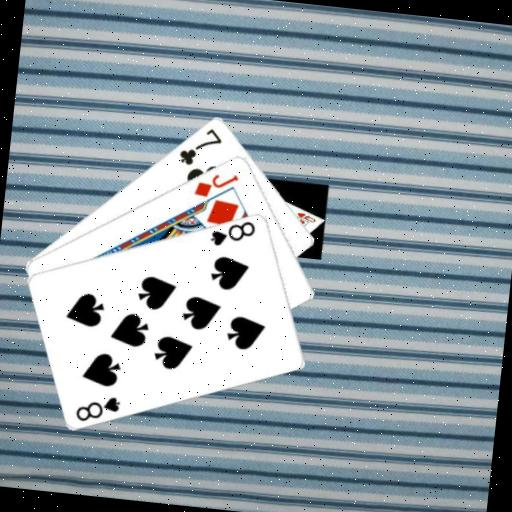7C: (175, 121, 225, 170)
8S: (72, 389, 124, 426), (207, 214, 258, 251)
JD: (191, 167, 241, 202)
